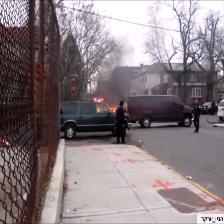fire: (97, 104, 118, 114)
